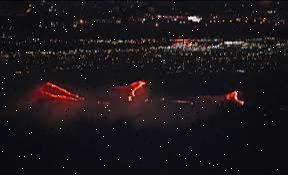fire: (32, 79, 84, 107), (122, 76, 148, 105), (225, 87, 248, 106)
